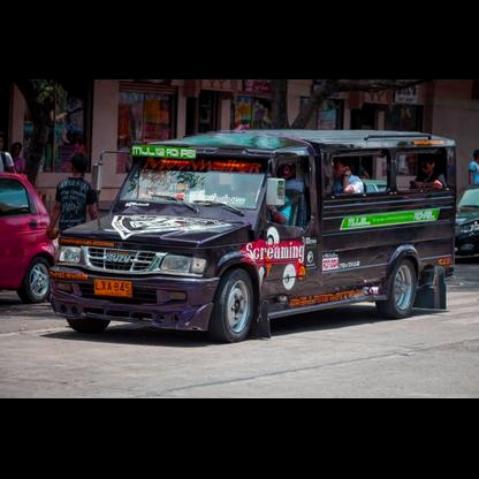jeepney: (49, 120, 460, 345)
